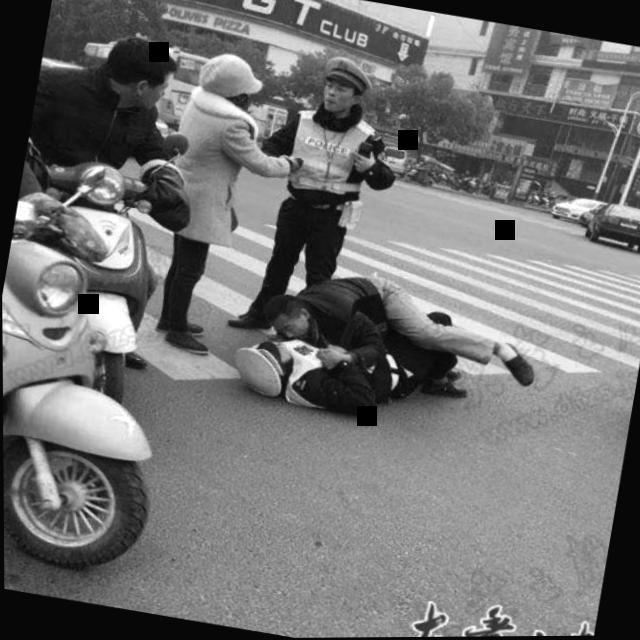Fall-Detected: (214, 237, 534, 440)
